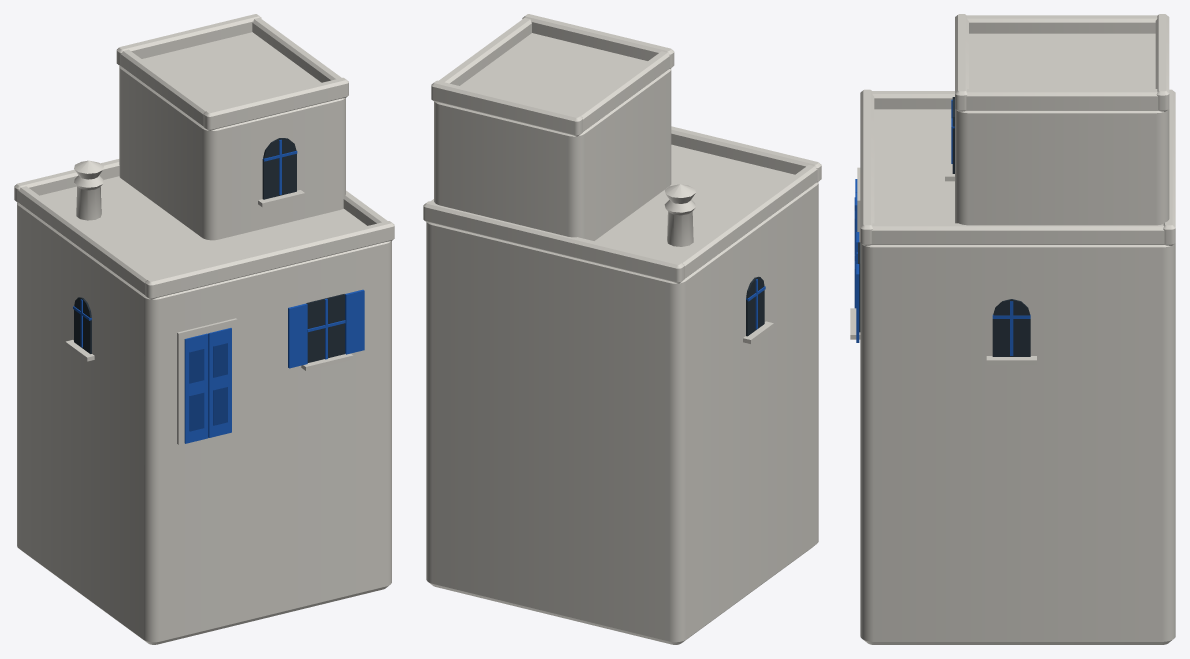
3 views of the same model, side by side, from view 1: azimuth 30°, elevation 25°; view 2: azimuth 150°, elevation 25°; view 3: azimuth 270°, elevation 25° (orthographic). The views are drawn at different scales.
Visible parts, largest first — view 1: white0, white5, white1, white6, white3, white7, pane18, white10, white8, blue11, pane25, blue14 (+9 smaller); view 2: white0, white5, white2, white7, white3, white1, white6, white8, white9, white30, pane31; view 3: white0, white5, white4, white9, white8, white1, pane37, white3, white7, white6, white2.
Part boxes in pixels (x1,y1,x2,y2): white0: (17,176,391,644); white5: (119,32,345,240); white1: (145,221,394,299); white6: (203,77,348,130); white3: (18,186,151,294); white7: (116,14,261,66); pane18: (306,294,344,362); white10: (177,318,237,444); white8: (120,49,210,126); blue11: (184,333,208,443); pane25: (262,138,296,199); blue14: (208,328,231,437); white0: (426,144,818,644); white5: (434,33,671,240); white2: (423,201,684,283); white7: (431,80,582,136); white3: (677,165,817,278); white1: (671,126,821,182); white6: (522,14,674,68); white8: (576,51,670,131); white9: (438,18,531,85); white30: (664,184,695,246); pane31: (746,276,764,336); white0: (860,109,1175,644); white5: (955,33,1169,225); white4: (871,223,1164,244); white9: (966,89,1158,110); white8: (967,15,1157,33); white1: (860,89,874,245); pane37: (992,299,1030,356); white3: (872,91,954,109); white7: (1155,14,1169,111); white6: (955,14,968,111); white2: (1163,89,1175,245).
Bounding box in the file's own units: 5.52 × 9.66 × 5.16.
